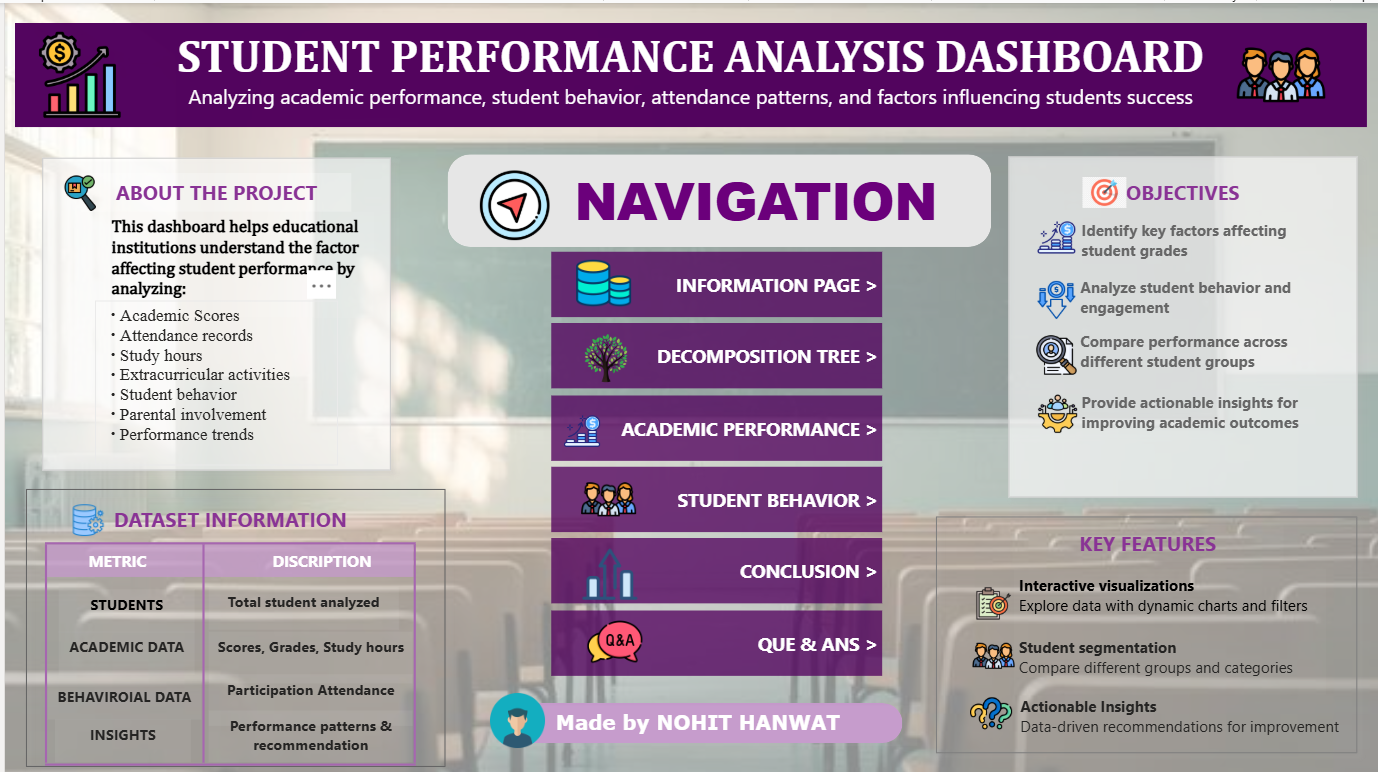

Layout of this report page (visuals, bound fields, positions):
{"tool":"powerbi","page":{"name":"INFORMATION PAGE","canvas":[1280,720],"ordinal":0},"visuals":[{"type":"textbox","box":[9.3,18.6,1257.3,96.9],"z":0},{"type":"shape","box":[411.8,141.2,505.9,86.3],"z":0,"group":"g1"},{"type":"actionButton","box":[507.9,231.4,307.8,60.9],"z":0,"group":"g2"},{"type":"shape","box":[25.8,134.8,342.4,309.1],"z":1000},{"type":"actionButton","box":[507.9,298,307.8,60.9],"z":1000,"group":"g2"},{"type":"actionButton","box":[507.9,364.7,307.8,60.9],"z":2000,"group":"g2"},{"type":"shape","box":[10,443.3,408.3,276.7],"z":2000},{"type":"shape","box":[923.9,134.1,342.7,335.3],"z":3000},{"type":"actionButton","box":[507.9,431.3,307.8,60.9],"z":3000,"group":"g2"},{"type":"shape","box":[856.7,468.3,410,238.3],"z":4000},{"type":"actionButton","box":[507.9,498,307.8,60.9],"z":4000,"group":"g2"},{"type":"textbox","box":[71.2,157.6,251.5,36.4],"z":5000},{"type":"actionButton","box":[507.9,564.6,307.8,60.9],"z":5000,"group":"g2"},{"type":"textbox","box":[94.1,194.1,249,98],"z":6000},{"type":"image","box":[523.3,235,67.1,51.5],"z":6000,"group":"g2"},{"type":"textbox","box":[83.3,277.3,225.8,153],"z":7000},{"type":"image","box":[525.3,304.4,67.1,51.5],"z":7000,"group":"g2"},{"type":"image","box":[511.1,380.6,50.9,35.8],"z":8000,"group":"g2"},{"type":"textbox","box":[83.3,463.3,251.7,35],"z":8000},{"type":"image","box":[527.3,436.6,67.1,51.5],"z":9000,"group":"g2"},{"type":"textbox","box":[38.3,503.3,341.7,30],"z":9000},{"type":"shape","box":[155,503.3,60,203.3],"z":10000},{"type":"image","box":[529.4,506,67.1,51.5],"z":10000,"group":"g2"},{"type":"shape","box":[351.7,503.3,60,203.3],"z":11000},{"type":"image","box":[533.4,568.7,67.1,51.5],"z":11000,"group":"g2"},{"type":"shape","box":[8.3,503.3,60,203.3],"z":12000},{"type":"textbox","box":[50,545,126.7,40],"z":13000},{"type":"textbox","box":[50,585,126.7,40],"z":14000},{"type":"textbox","box":[40,631.7,143.3,35],"z":15000},{"type":"textbox","box":[46.7,666.7,126.7,40],"z":16000},{"type":"textbox","box":[190,543.3,176.7,40],"z":17000},{"type":"textbox","box":[190,585,190,48.3],"z":18000},{"type":"textbox","box":[190,625,190,48.3],"z":19000},{"type":"textbox","box":[190,658.3,190,48.3],"z":20000},{"type":"shape","box":[37.3,698,345.1,21.6],"z":21000},{"type":"textbox","box":[970,158.3,251.7,35],"z":22000},{"type":"textbox","box":[996.7,196.7,228.3,50],"z":23000},{"type":"textbox","box":[995,250,228.3,50],"z":24000},{"type":"textbox","box":[995,300,228.3,50],"z":25000},{"type":"textbox","box":[996.7,356.7,228.3,50],"z":26000},{"type":"textbox","box":[936.7,485,251.7,35],"z":27000},{"type":"textbox","box":[938.3,526.7,290,58.3],"z":28000},{"type":"textbox","box":[938.3,585,290,58.3],"z":29000},{"type":"textbox","box":[939.2,639.2,327.5,56.9],"z":30000},{"type":"shape","box":[37.3,492.2,345.1,21.6],"z":31000},{"type":"image","box":[13.7,25.5,111.8,82.4],"z":32000},{"type":"textbox","box":[515.7,145.1,366.7,78.4],"z":32000,"group":"g1"},{"type":"image","box":[43.1,158.8,54.9,35.3],"z":33000},{"type":"image","box":[54.9,466.7,45.1,29.4],"z":34000},{"type":"image","box":[1002,154.9,41.2,43.1],"z":35000},{"type":"image","box":[958.8,196.1,37.2,43.1],"z":36000},{"type":"image","box":[958.8,254.9,37.2,43.1],"z":37000},{"type":"image","box":[958.8,305.9,37.2,43.1],"z":38000},{"type":"image","box":[960.8,360.8,37.2,43.1],"z":39000},{"type":"image","box":[900,586.3,39.2,43.1],"z":40000},{"type":"image","box":[898,639.2,39.2,43.1],"z":41000},{"type":"image","box":[900,537.3,39.2,43.1],"z":42000},{"type":"shape","box":[454.9,651,380.4,37.2],"z":44000},{"type":"image","box":[421.6,156.9,105.9,64.7],"z":45000,"group":"g1"},{"type":"textbox","box":[441.2,652.9,407.8,37.2],"z":45000},{"type":"group","id":"g1","title":"Group 2","box":[411.8,141.2,505.9,86.3],"z":46000},{"type":"image","box":[1131.4,25.5,111.8,82.4],"z":47000},{"type":"image","box":[451,629.4,51,76.5],"z":48000},{"type":"group","id":"g2","title":"Group 1","box":[507.9,231.4,307.8,394.1],"z":48001}]}

Visuals, with their boxes in screenshot pixels (x1, y1, x2, y2), scaled from the page's 1280x720 canvas onto the 1378x772 screenshot:
textbox: rect(10, 20, 1364, 124)
shape: rect(443, 151, 988, 244)
actionButton: rect(547, 248, 878, 313)
shape: rect(28, 145, 396, 476)
actionButton: rect(547, 320, 878, 385)
actionButton: rect(547, 391, 878, 456)
shape: rect(11, 475, 450, 771)
shape: rect(995, 144, 1364, 503)
actionButton: rect(547, 462, 878, 528)
shape: rect(922, 502, 1364, 758)
actionButton: rect(547, 534, 878, 599)
textbox: rect(77, 169, 347, 208)
actionButton: rect(547, 605, 878, 671)
textbox: rect(101, 208, 369, 313)
image: rect(563, 252, 636, 307)
textbox: rect(90, 297, 333, 461)
image: rect(566, 326, 638, 382)
image: rect(550, 408, 605, 446)
textbox: rect(90, 497, 361, 534)
image: rect(568, 468, 640, 523)
textbox: rect(41, 540, 409, 572)
shape: rect(167, 540, 231, 758)
image: rect(570, 543, 642, 598)
shape: rect(379, 540, 443, 758)
image: rect(574, 610, 646, 665)
shape: rect(9, 540, 74, 758)
textbox: rect(54, 584, 190, 627)
textbox: rect(54, 627, 190, 670)
textbox: rect(43, 677, 197, 715)
textbox: rect(50, 715, 187, 758)
textbox: rect(205, 583, 395, 625)
textbox: rect(205, 627, 409, 679)
textbox: rect(205, 670, 409, 722)
textbox: rect(205, 706, 409, 758)
shape: rect(40, 748, 412, 771)
textbox: rect(1044, 170, 1315, 207)
textbox: rect(1073, 211, 1319, 265)
textbox: rect(1071, 268, 1317, 322)
textbox: rect(1071, 322, 1317, 375)
textbox: rect(1073, 382, 1319, 436)
textbox: rect(1008, 520, 1279, 558)
textbox: rect(1010, 565, 1322, 627)
textbox: rect(1010, 627, 1322, 690)
textbox: rect(1011, 685, 1364, 746)
shape: rect(40, 528, 412, 551)
image: rect(15, 27, 135, 116)
textbox: rect(555, 156, 950, 240)
image: rect(46, 170, 106, 208)
image: rect(59, 500, 108, 532)
image: rect(1079, 166, 1123, 212)
image: rect(1032, 210, 1072, 256)
image: rect(1032, 273, 1072, 320)
image: rect(1032, 328, 1072, 374)
image: rect(1034, 387, 1074, 433)
image: rect(969, 629, 1011, 675)
image: rect(967, 685, 1009, 732)
image: rect(969, 576, 1011, 622)
shape: rect(490, 698, 899, 738)
image: rect(454, 168, 568, 238)
textbox: rect(475, 700, 914, 740)
"Group 2" group: rect(443, 151, 988, 244)
image: rect(1218, 27, 1338, 116)
image: rect(486, 675, 540, 757)
"Group 1" group: rect(547, 248, 878, 671)
